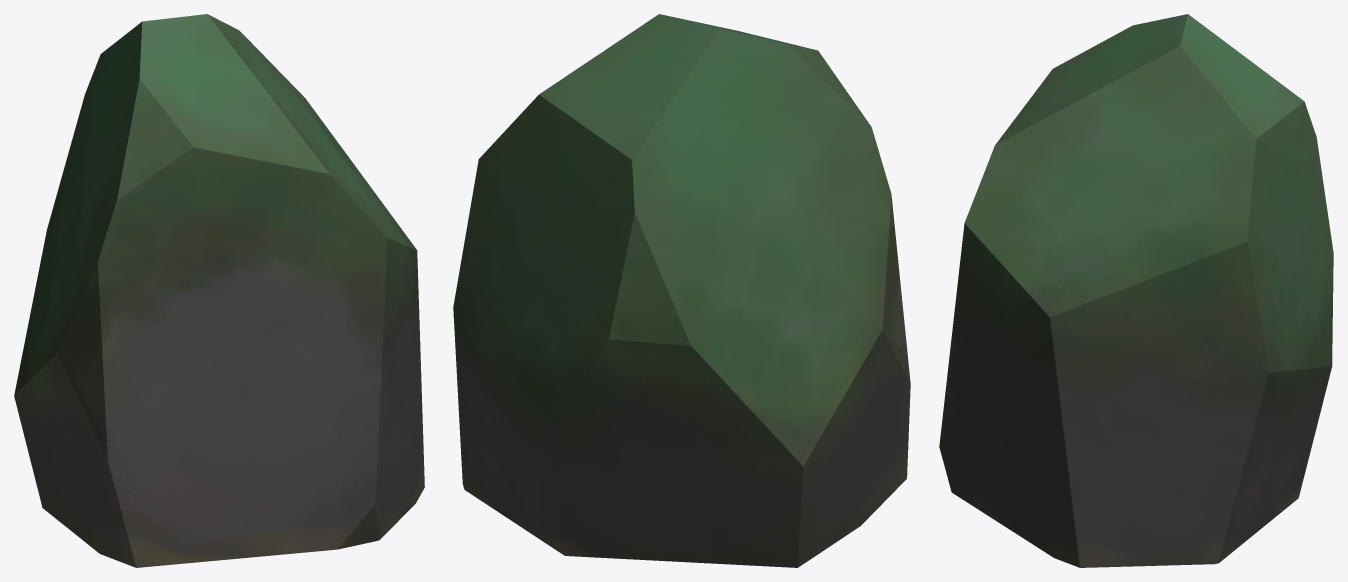
Rendered from Rock01.fbx.
The picture shows the model from 3 angles, left to right: view 1: azimuth 30°, elevation 25°; view 2: azimuth 150°, elevation 25°; view 3: azimuth 270°, elevation 25°; orthographic projection. The views are drawn at different scales.
Visible parts, largest first — view 1: Rock; view 2: Rock; view 3: Rock.
Boxes of the visible parts, x1,y1,x2,y2 form: Rock: [14, 14, 424, 567]; Rock: [453, 14, 910, 567]; Rock: [939, 14, 1333, 567].
Size of the model in its own units: 173 by 230 by 182.
1 material, 1 textured.
